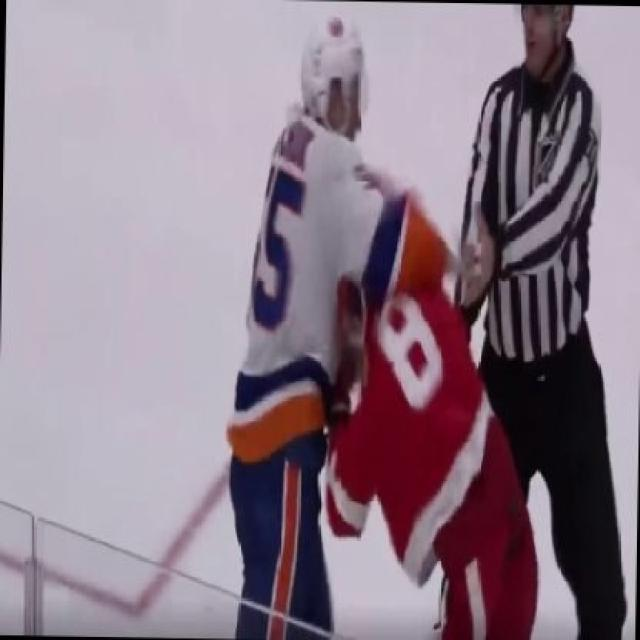fight: (196, 6, 540, 638)
non-fight: (446, 0, 640, 640)
